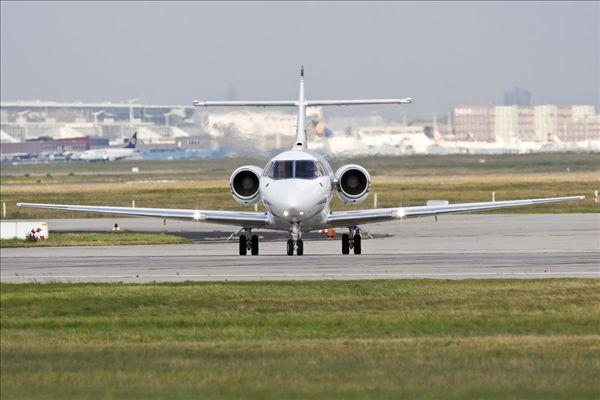airplane: (13, 62, 589, 256)
